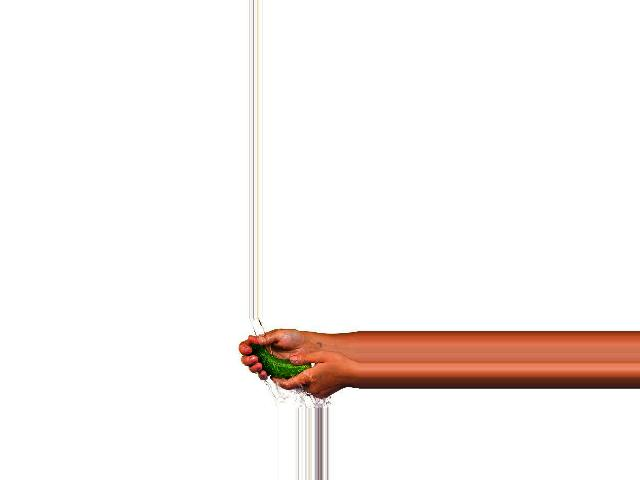cucumber: (250, 344, 312, 379)
